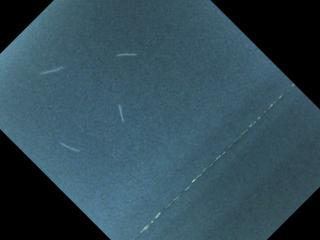crack: (130, 81, 299, 240)
scratch: (105, 100, 138, 126), (54, 136, 83, 158), (111, 45, 140, 66), (37, 61, 68, 80)
